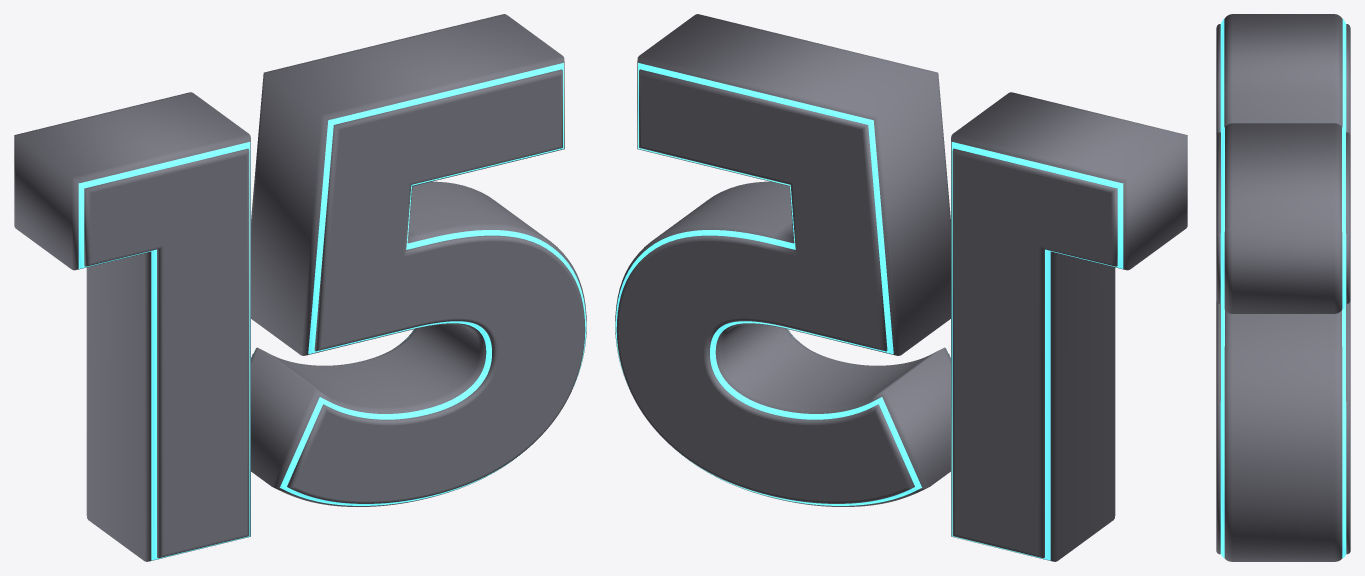
Rendered from Number 15.fbx.
3 renders of one model, left to right at view 1: azimuth 30°, elevation 25°; view 2: azimuth 150°, elevation 25°; view 3: azimuth 270°, elevation 25°, orthographic. The views are drawn at different scales.
Parts seen in each view (by area): view 1: N_15_smaller, N_15_side, N_15_border; view 2: N_15_smaller, N_15_side, N_15_border; view 3: N_15_side, N_15_smaller, N_15_border.
Part boxes in pixels (box(x1,y1,x2,y2)): N_15_smaller: box(84, 69, 585, 558); N_15_side: box(14, 14, 586, 561); N_15_border: box(78, 63, 586, 560); N_15_smaller: box(616, 69, 1117, 558); N_15_side: box(615, 14, 1187, 561); N_15_border: box(615, 63, 1123, 560); N_15_side: box(1224, 14, 1342, 561); N_15_smaller: box(1216, 24, 1350, 554); N_15_border: box(1220, 19, 1346, 558).
Size of the model in its own units: 73.77 by 56.06 by 18.4.
